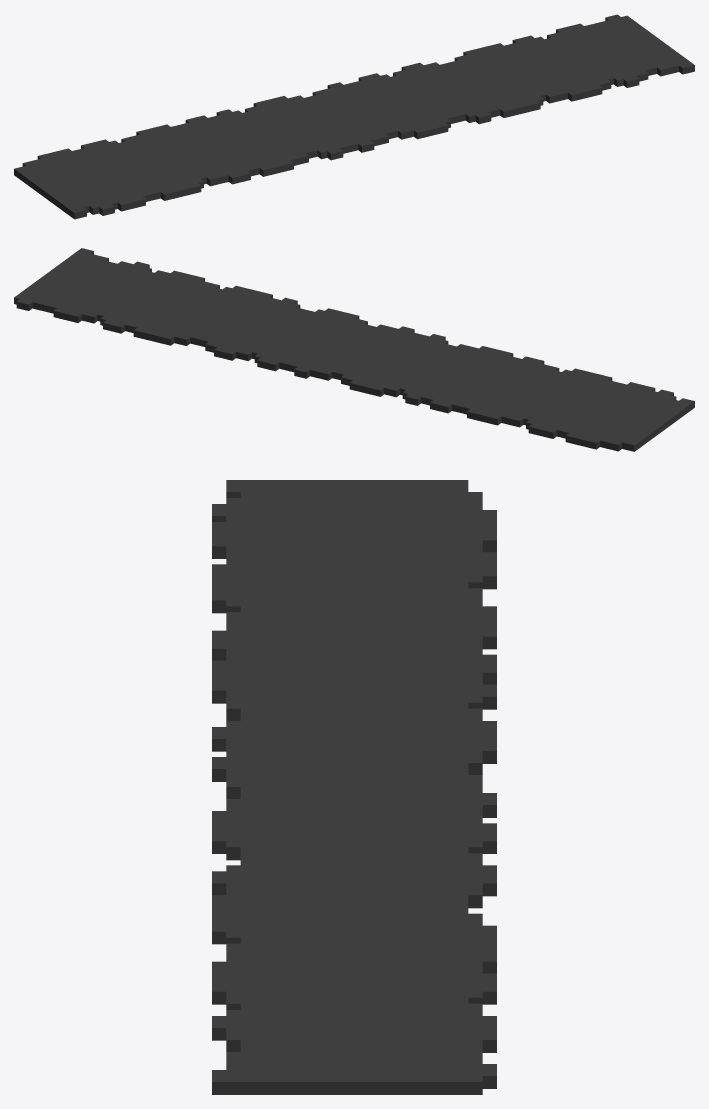
The model's file is Road.gltf.
The picture shows the model from 3 angles, top to bottom: view 1: azimuth 30°, elevation 25°; view 2: azimuth 150°, elevation 25°; view 3: azimuth 270°, elevation 25°; orthographic projection. The views are drawn at different scales.
Bounding box in the file's own units: 10 × 0.1 × 2.
Materials: 1 (1 with a texture image).
